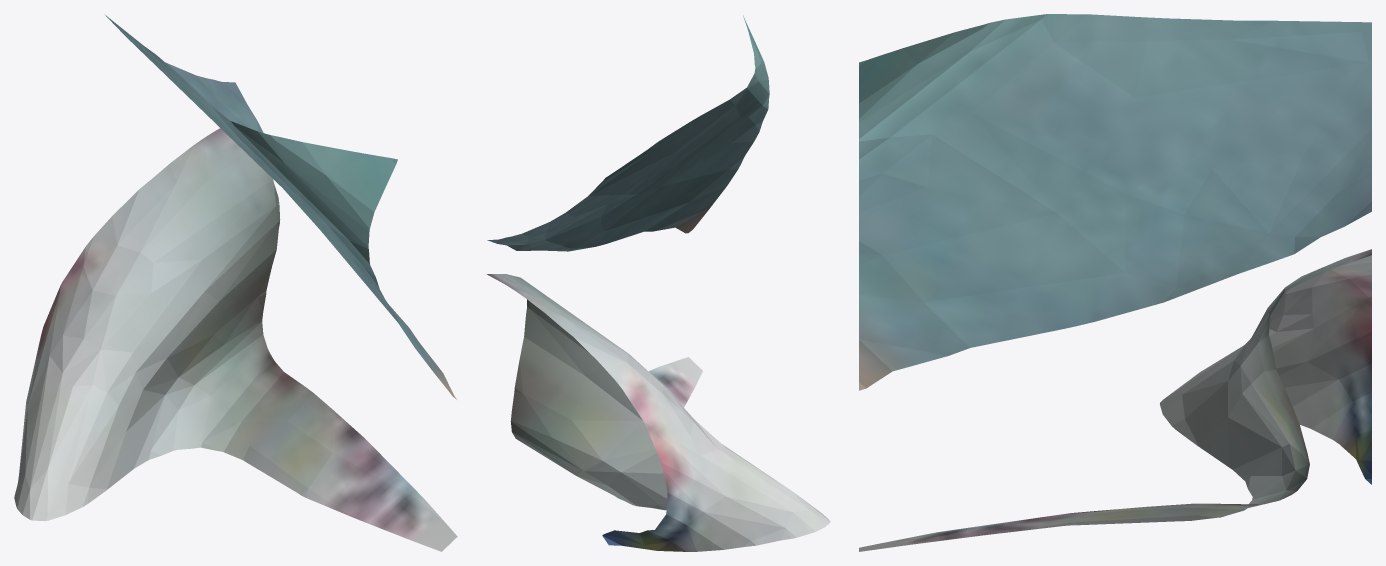
3 renders of one model, left to right at view 1: azimuth 30°, elevation 25°; view 2: azimuth 150°, elevation 25°; view 3: azimuth 270°, elevation 25°, orthographic. The views are drawn at different scales.
Visible parts, largest first — view 1: 091_W_Aya_100K_01; view 2: 091_W_Aya_100K_01; view 3: 091_W_Aya_100K_01.
Boxes of the visible parts, x1=… form: 091_W_Aya_100K_01: x1=14, y1=15, x2=457, y2=551; 091_W_Aya_100K_01: x1=487, y1=15, x2=830, y2=551; 091_W_Aya_100K_01: x1=859, y1=14, x2=1371, y2=551.
Size of the model in its own units: 32.57 by 42.87 by 42.87.
1 material, 1 textured.
